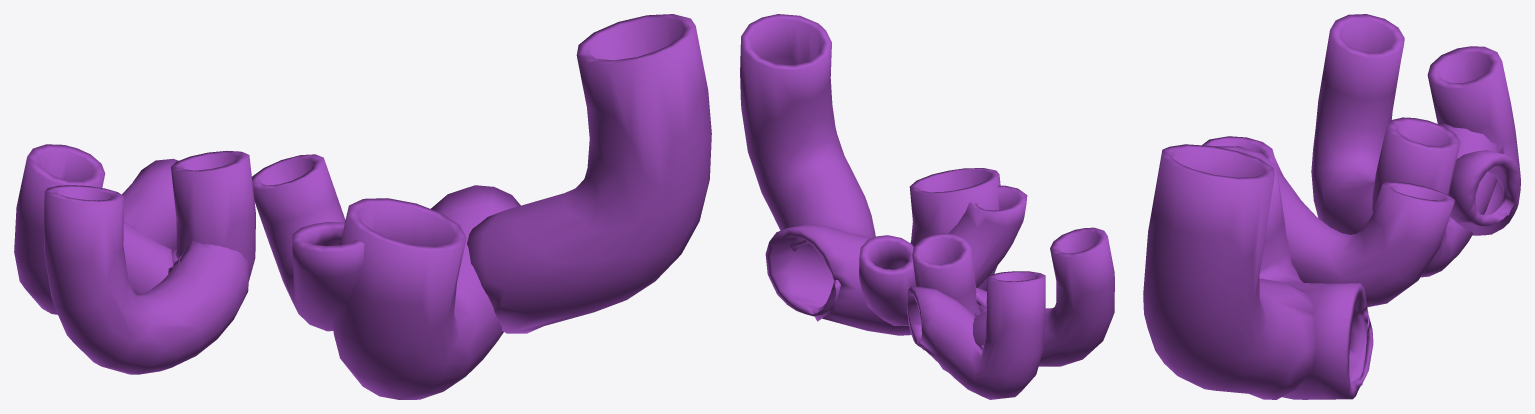
Rendered from smooth_er.glb.
3 views of the same model, side by side, from view 1: azimuth 30°, elevation 25°; view 2: azimuth 150°, elevation 25°; view 3: azimuth 270°, elevation 25° (orthographic). The views are drawn at different scales.
Parts seen in each view (by area): view 1: BezierCurve.006, BezierCurve.004, BezierCurve.005; view 2: BezierCurve.006, BezierCurve.005, BezierCurve.004; view 3: BezierCurve.006, BezierCurve.004, BezierCurve.005.
Part boxes in pixels (<box>): BezierCurve.006: <box>332,14,711,399</box>; BezierCurve.004: <box>44,154,364,374</box>; BezierCurve.005: <box>14,144,255,314</box>; BezierCurve.006: <box>740,14,1000,335</box>; BezierCurve.005: <box>907,233,1045,399</box>; BezierCurve.004: <box>859,185,1114,366</box>; BezierCurve.006: <box>1143,144,1373,399</box>; BezierCurve.004: <box>1202,14,1455,307</box>; BezierCurve.005: <box>1372,46,1520,277</box>.
Bounding box in the file's own units: 1243 × 700 × 749.
